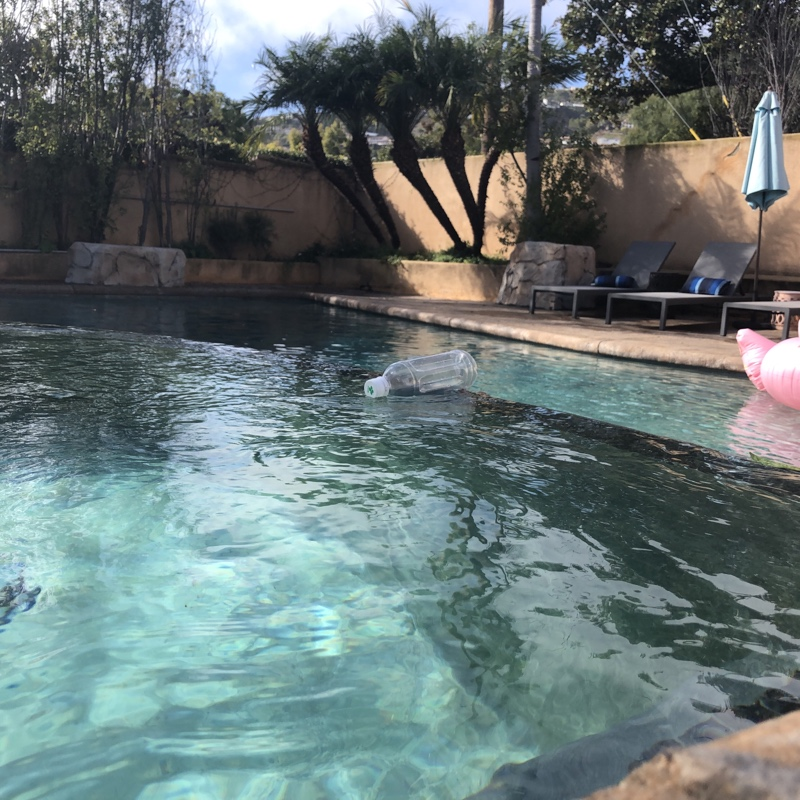Plastic Bottle: (360, 347, 482, 403)
